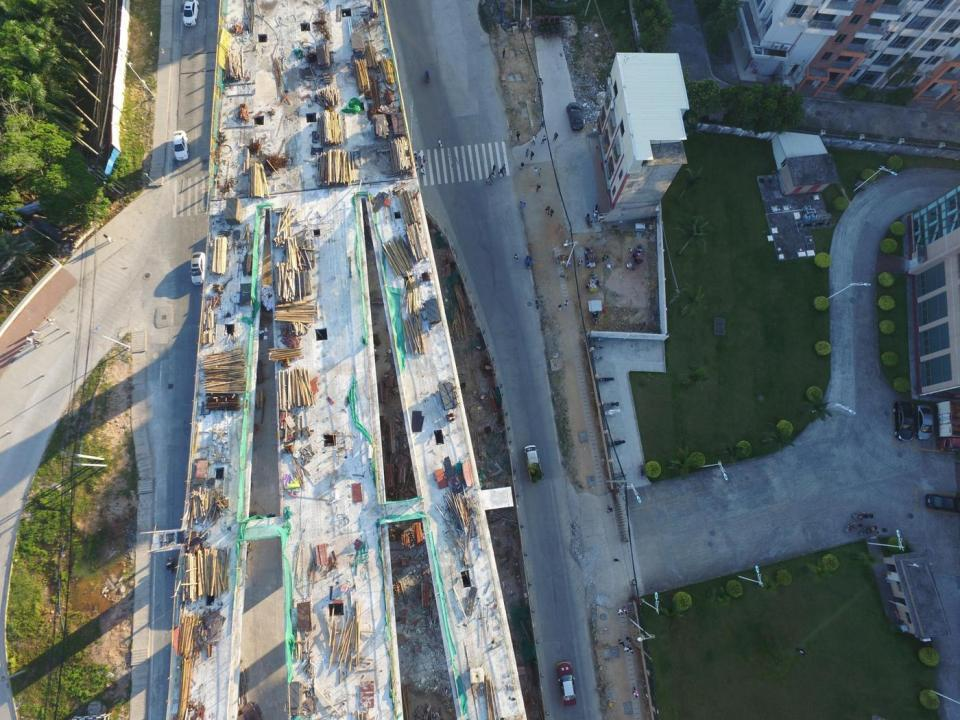car: (556, 661, 580, 706), (892, 400, 913, 442), (925, 492, 960, 512), (914, 403, 932, 441), (189, 251, 207, 287), (565, 100, 584, 132), (181, 0, 200, 27), (172, 130, 188, 160)
truck: (932, 399, 960, 452), (523, 444, 545, 482)
